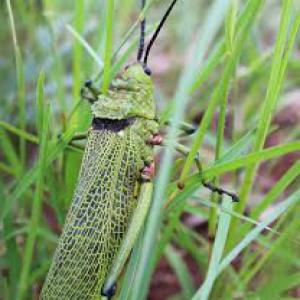locust: (33, 15, 212, 300)
